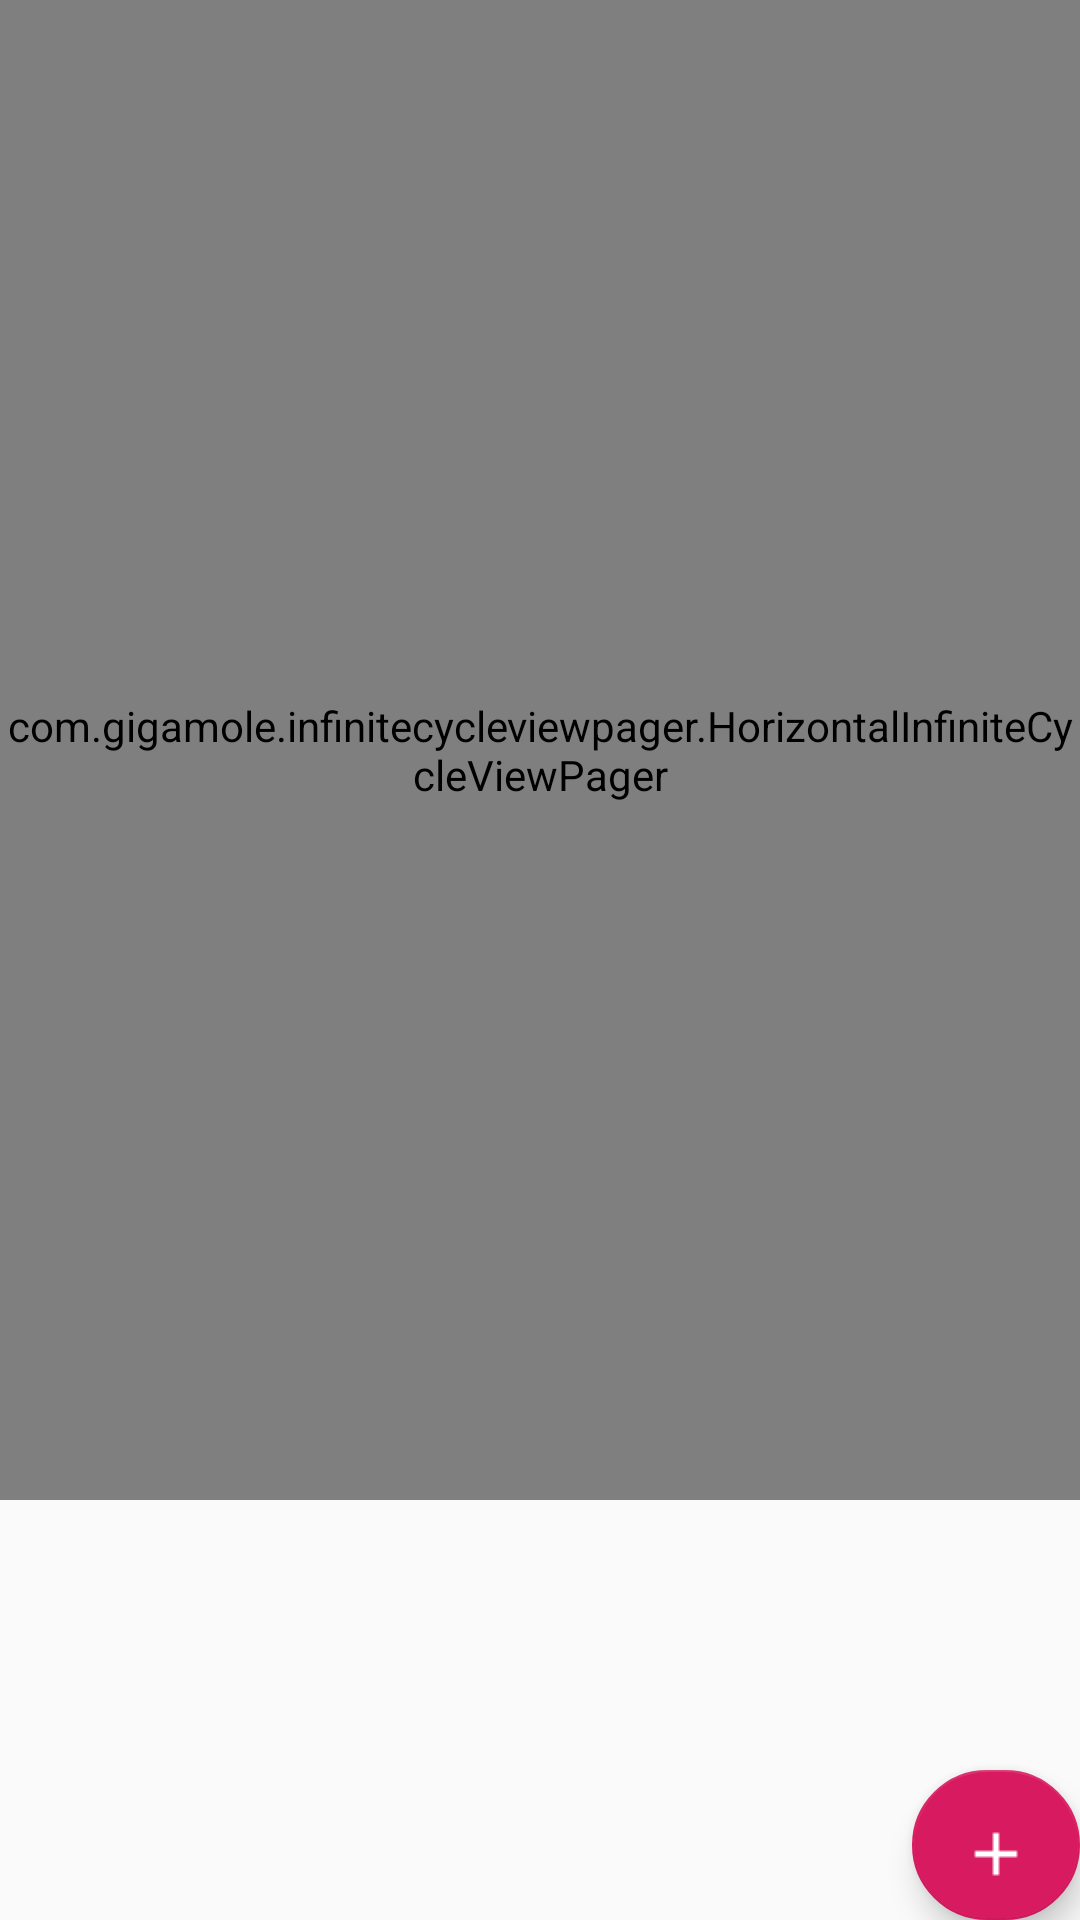

Where to tap for icons on this 1080 x 1920 app screen, as point (x, y):
plus: point (996, 1845)
